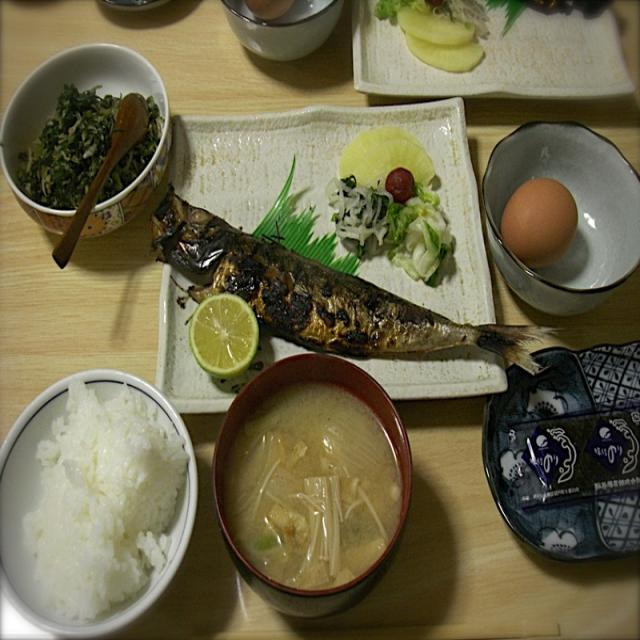rice: (15, 396, 178, 609)
